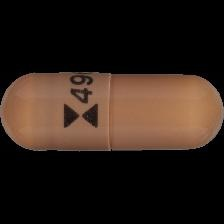0172-4960: (0, 0, 224, 224)
